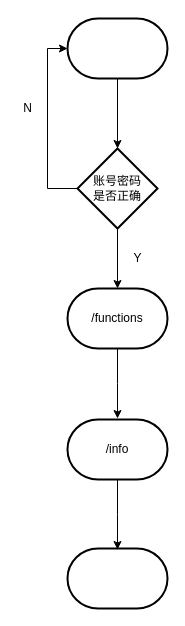
The diagram is 185 pixels wide and 626 high, and some of its shapes have lost their labels. Each missing label, with the box of its shape:
登录: (66, 17, 168, 79)
首页: (66, 547, 168, 609)
